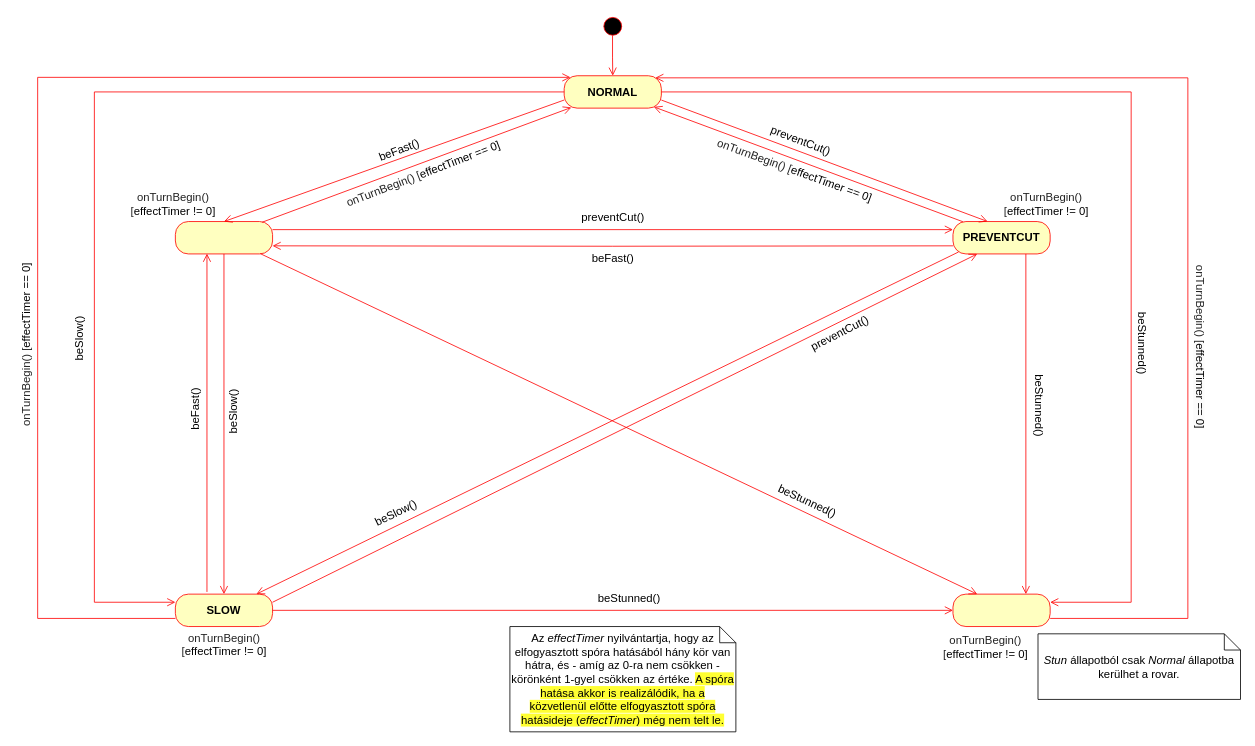
Some shapes in this 1255 by 746 pixel diagram are drawn without their labels. Here are the shapes that lost their labels. From the top down, the centre of each, then its label:
the point at 224,237: FAST
the point at 1001,610: STUN
